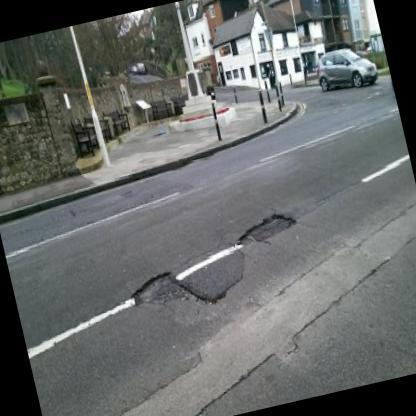pothole: (130, 270, 212, 310), (236, 214, 298, 249)
